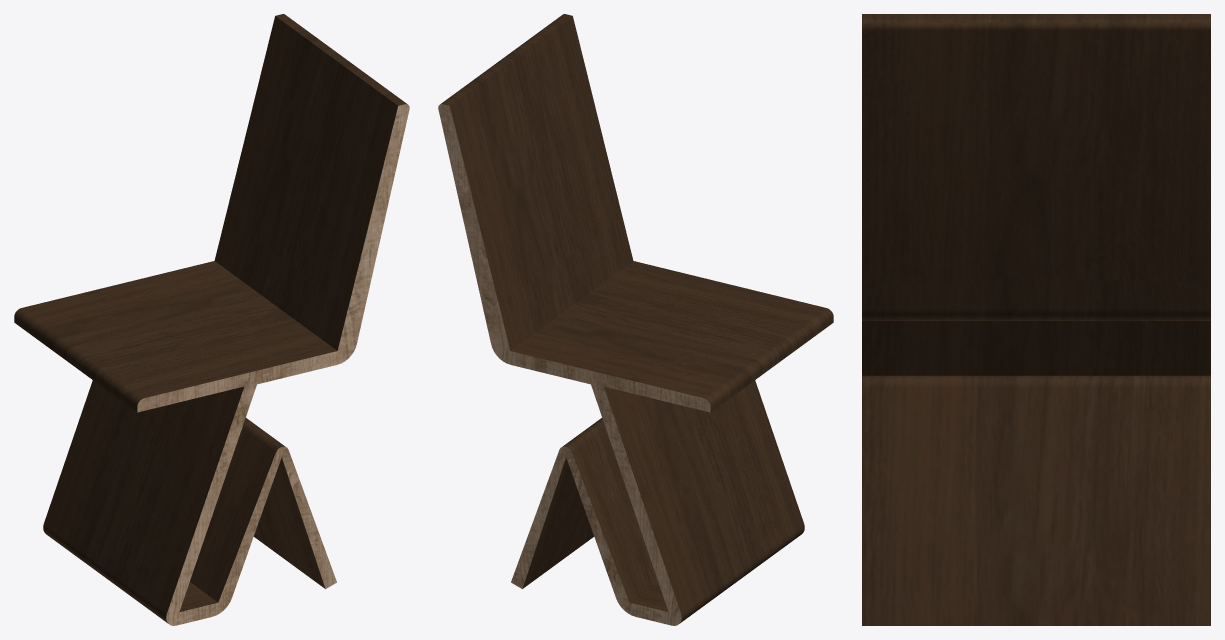
File: chair.glb
3 renders of one model, left to right at view 1: azimuth 30°, elevation 25°; view 2: azimuth 150°, elevation 25°; view 3: azimuth 270°, elevation 25°, orthographic. The views are drawn at different scales.
Visible parts, largest first — view 1: Line001; view 2: Line001; view 3: Line001.
Boxes of the visible parts, x1,y1,x2,y2 form: Line001: [14, 14, 409, 625]; Line001: [438, 14, 833, 625]; Line001: [862, 14, 1210, 625].
Bounding box in the file's own units: 671 × 1095 × 525.
Materials: 1 (1 with a texture image).
